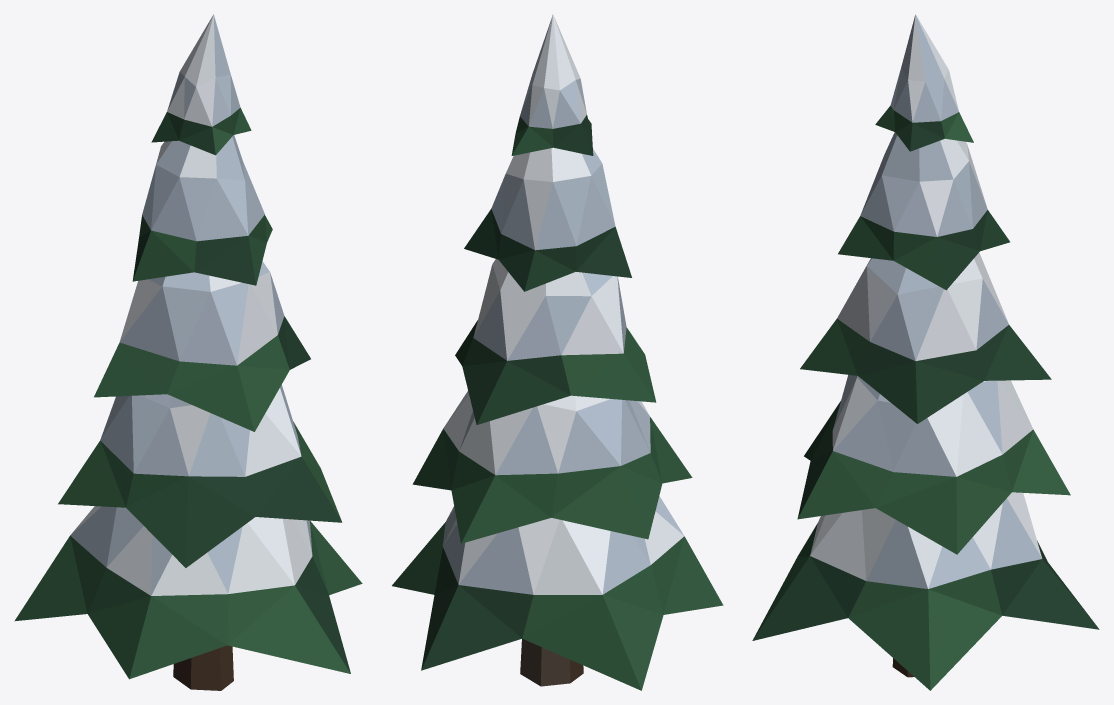
The model's file is tree_pine_snow_a.fbx.
3 views of the same model, side by side, from view 1: azimuth 30°, elevation 25°; view 2: azimuth 150°, elevation 25°; view 3: azimuth 270°, elevation 25° (orthographic).
Visible parts, largest first — view 1: tree_pine_snow_a; view 2: tree_pine_snow_a; view 3: tree_pine_snow_a.
Boxes of the visible parts, x1,y1,x2,y2 form: tree_pine_snow_a: (14,14,362,690); tree_pine_snow_a: (392,14,723,690); tree_pine_snow_a: (752,14,1099,690).
Bounding box in the file's own units: 3.57 × 7.57 × 3.64.
